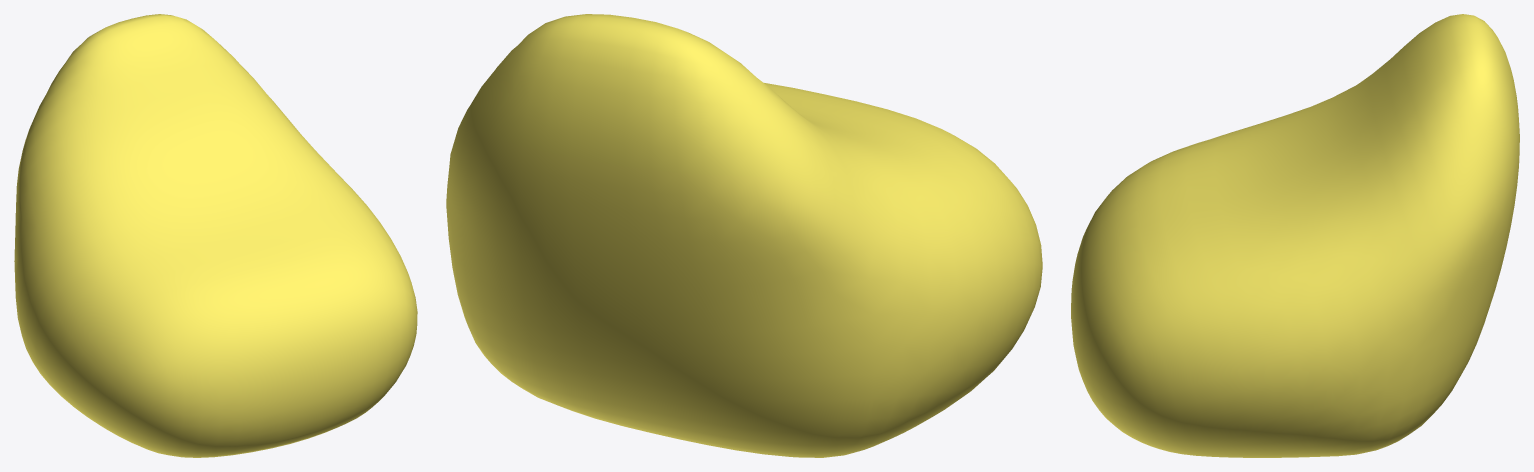
File: Store_13_Pouf_2.glb
3 views of the same model, side by side, from view 1: azimuth 30°, elevation 25°; view 2: azimuth 150°, elevation 25°; view 3: azimuth 270°, elevation 25° (orthographic). The views are drawn at different scales.
Parts seen in each view (by area): view 1: Store_13_Pouf_2; view 2: Store_13_Pouf_2; view 3: Store_13_Pouf_2.
Boxes of the visible parts, x1,y1,x2,y2 form: Store_13_Pouf_2: (14,14,417,457); Store_13_Pouf_2: (446,14,1042,457); Store_13_Pouf_2: (1071,14,1519,457).
Bounding box in the file's own units: 1.21 × 1.07 × 1.17.
1 material, 1 textured.
